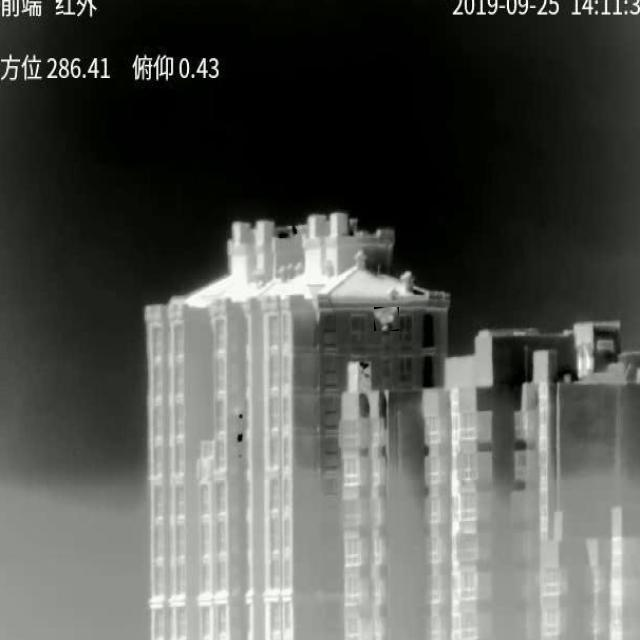drone: (374, 307, 397, 331)
